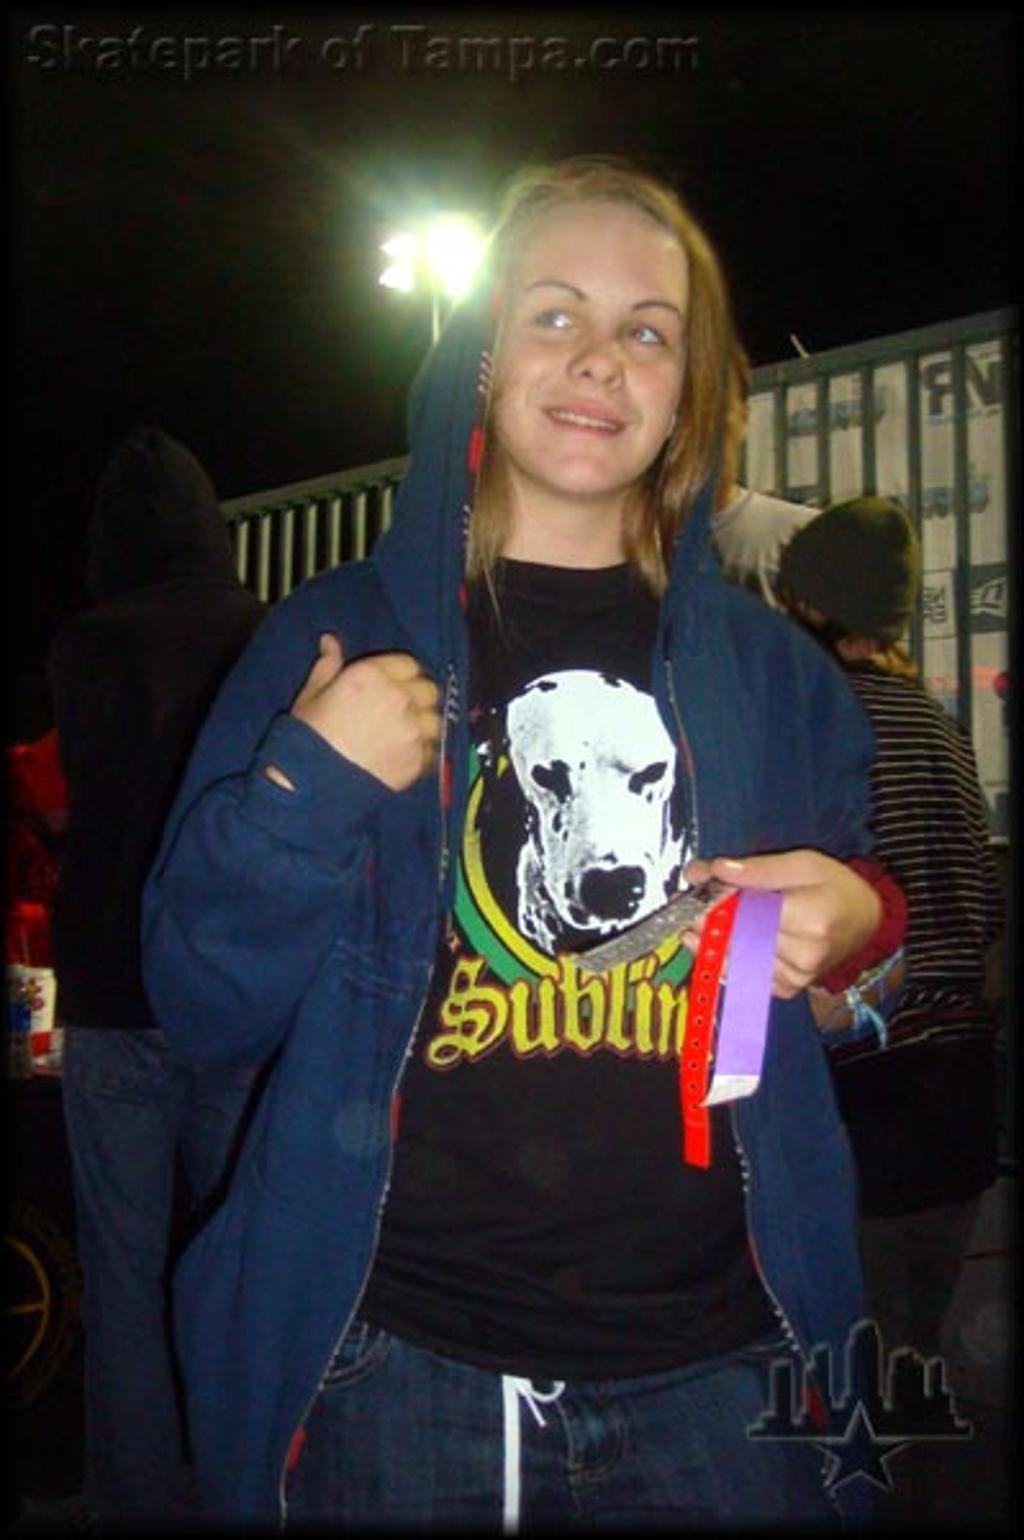face: (497, 190, 690, 497)
